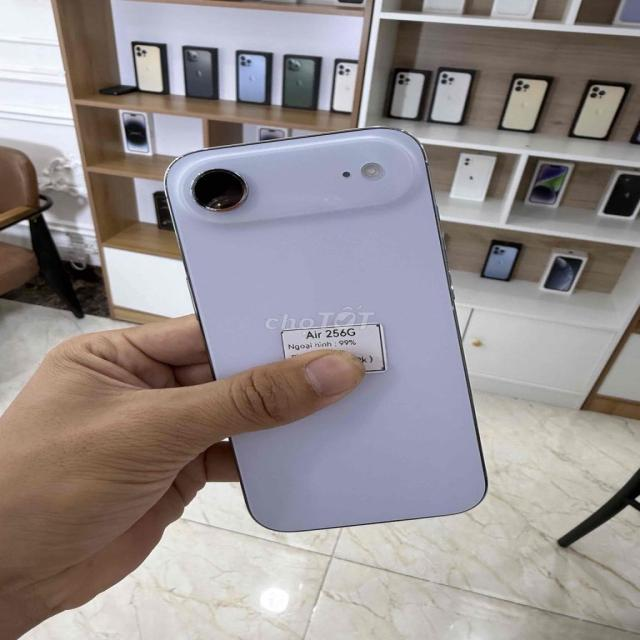gen_17: (167, 116, 498, 533)
